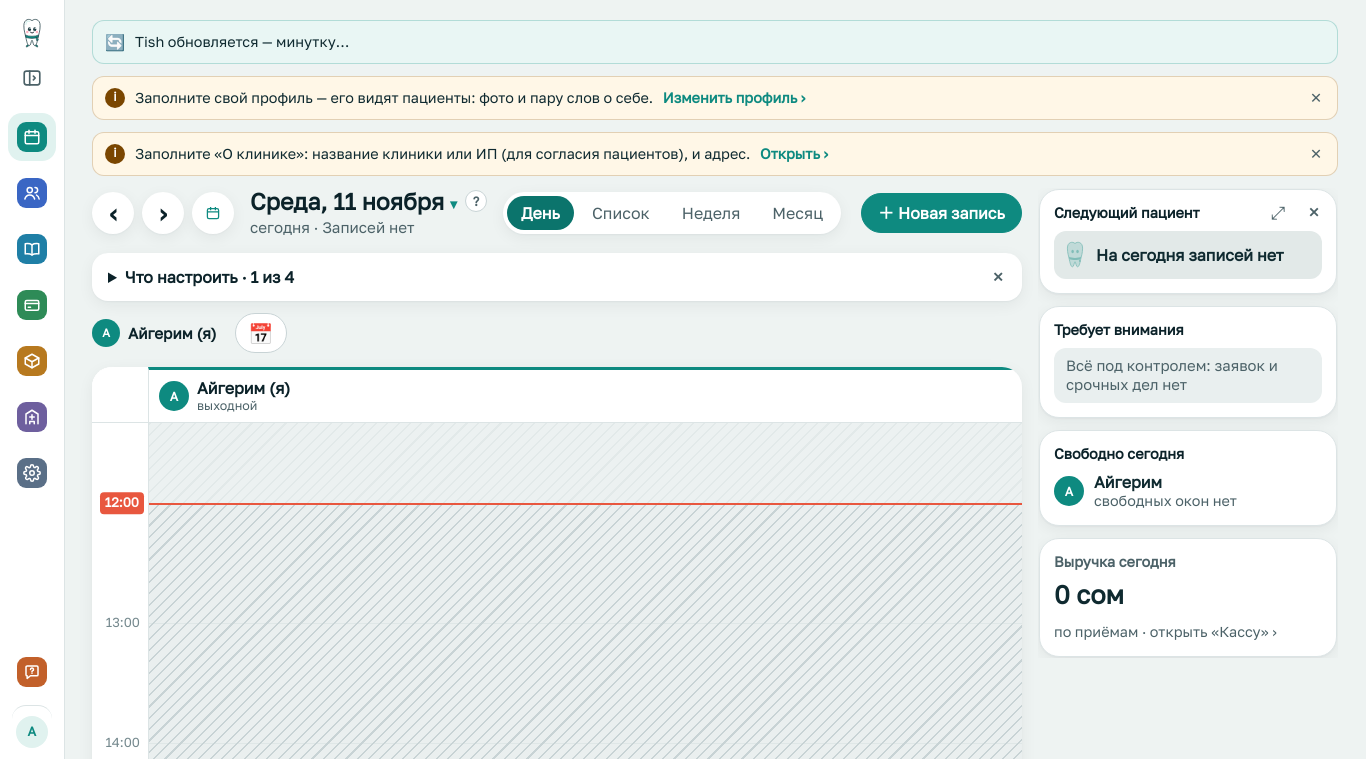
✕ скрывает строку и помнит это на устройстве
Later steps or results of the test are not shown.
(page scrolled)
Click the button named "Скрыть «Что настроить»": (998, 277) 980,259 -> 1016,295
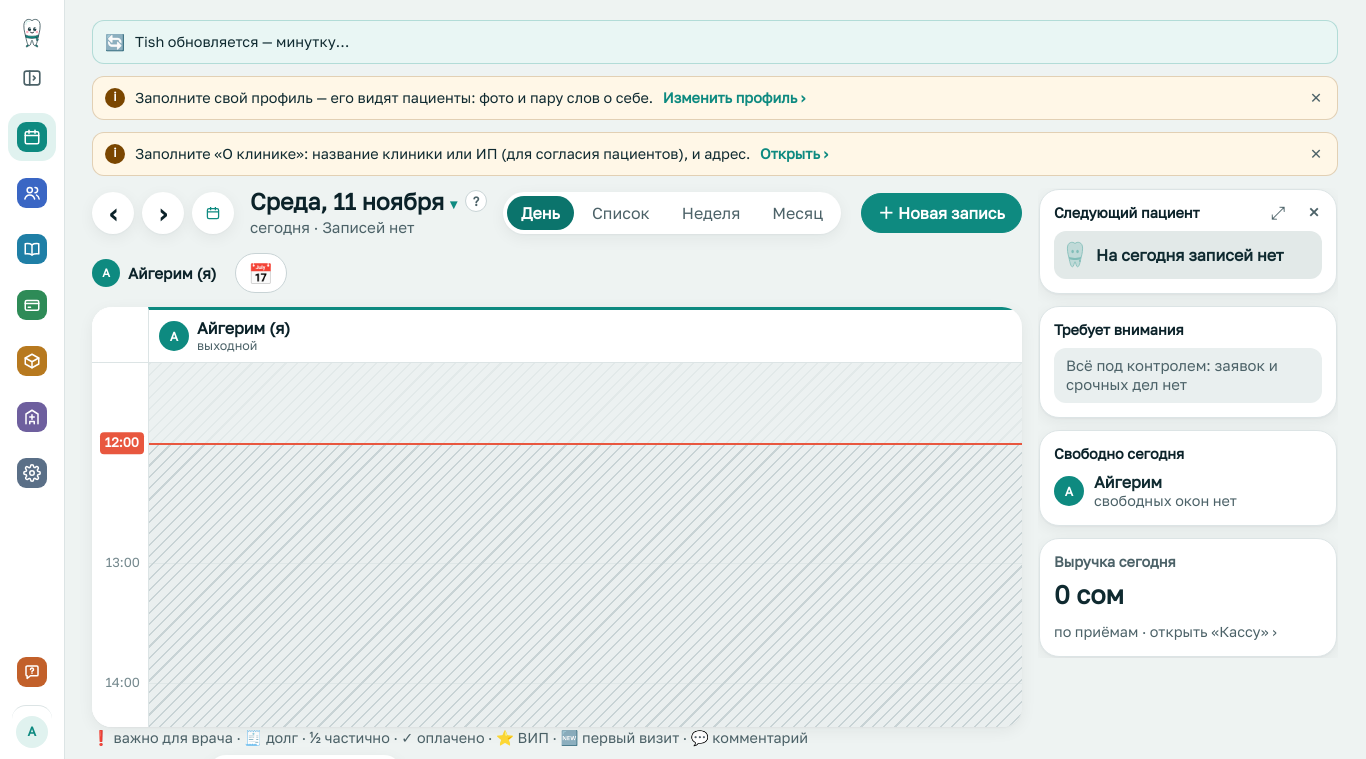
Now the heading "Что настроить" is gone
